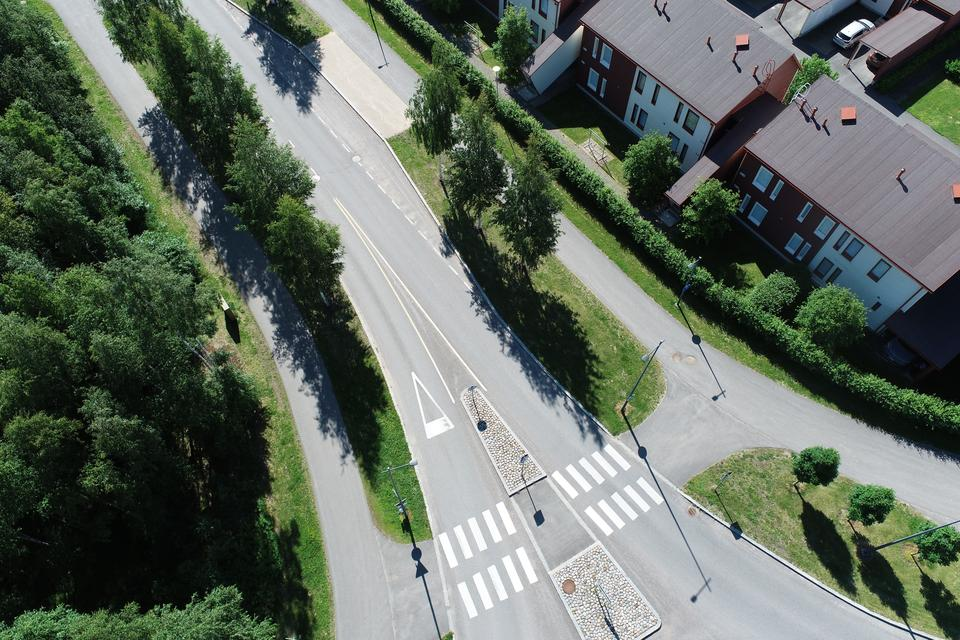intersection: (273, 391, 776, 640)
